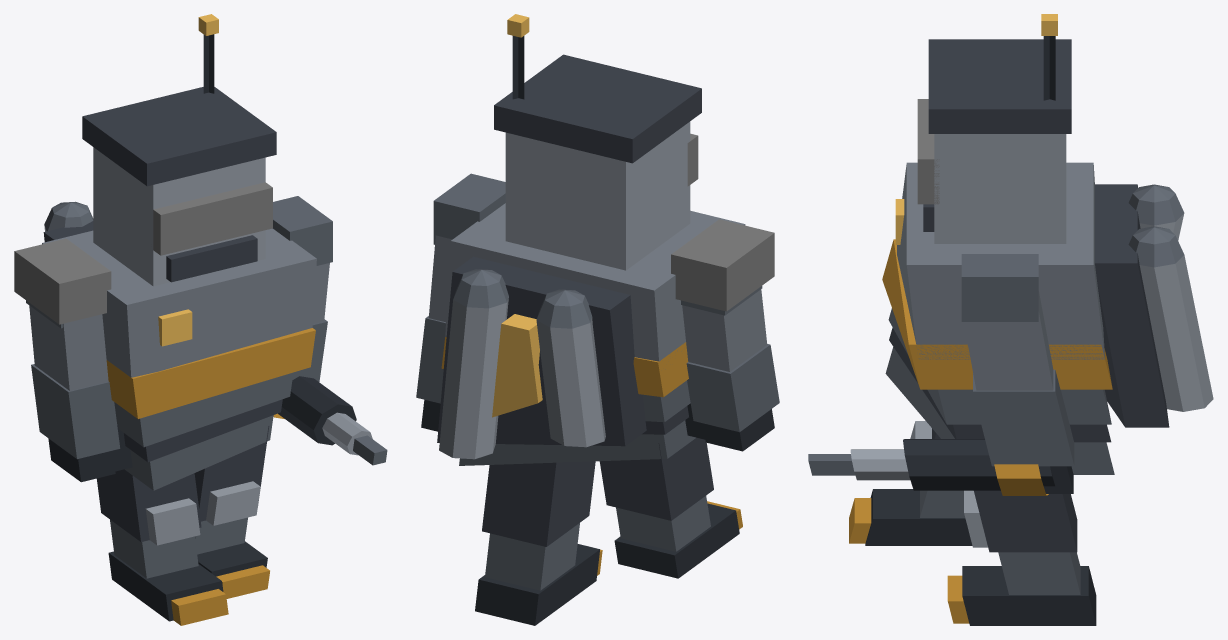
File: engineer-walk-6.obj
3 renders of one model, left to right at view 1: azimuth 30°, elevation 25°; view 2: azimuth 150°, elevation 25°; view 3: azimuth 270°, elevation 25°, orthographic. The views are drawn at different scales.
Visible parts, largest first — view 1: engineer-walk-6; view 2: engineer-walk-6; view 3: engineer-walk-6.
Boxes of the visible parts, bbox=[...] form: engineer-walk-6: bbox=[14, 14, 387, 625]; engineer-walk-6: bbox=[416, 14, 779, 625]; engineer-walk-6: bbox=[808, 14, 1213, 625].
Bounding box in the file's own units: 1.31 × 2.4 × 1.47.
